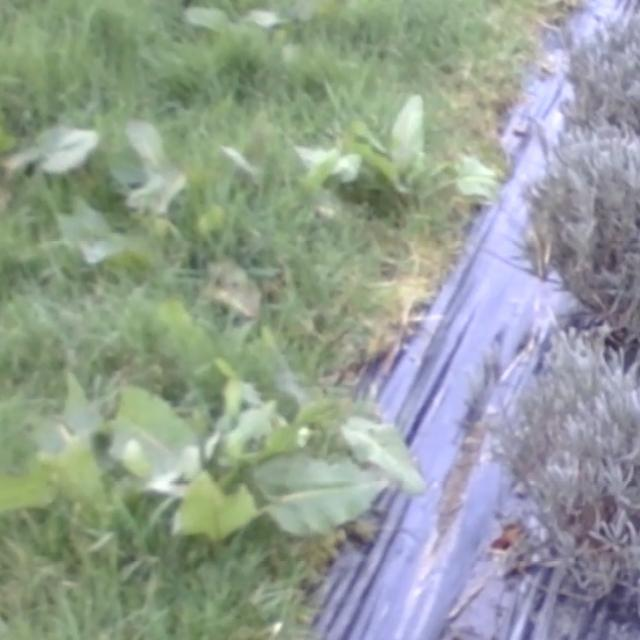organic waste: (25, 338, 436, 557), (300, 82, 481, 216), (146, 0, 318, 74), (124, 112, 219, 237), (5, 93, 116, 188)
